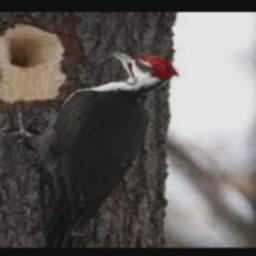Woodpecker: (3, 51, 179, 247)
